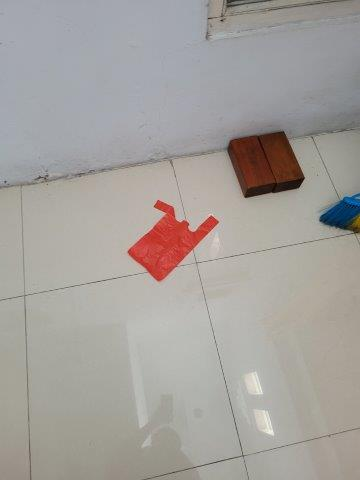plastik: (127, 200, 218, 278)
